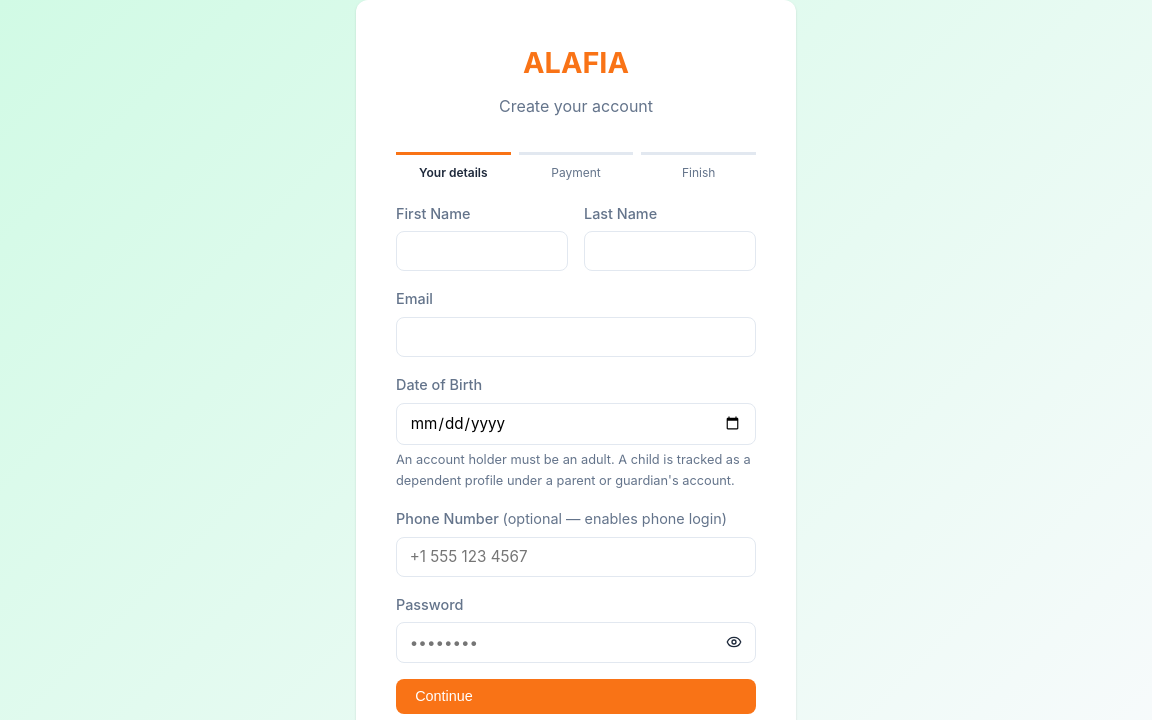
Test: signing up with an address that already has an account › closes on dismiss so the form can be corrected
Type "Ada" into the field with id "su-first" at (482,251), box x1=396 y1=231 x2=568 y2=272
Type "Demo" into the field with id "su-last" at (670,251), box x1=584 y1=231 x2=756 y2=272
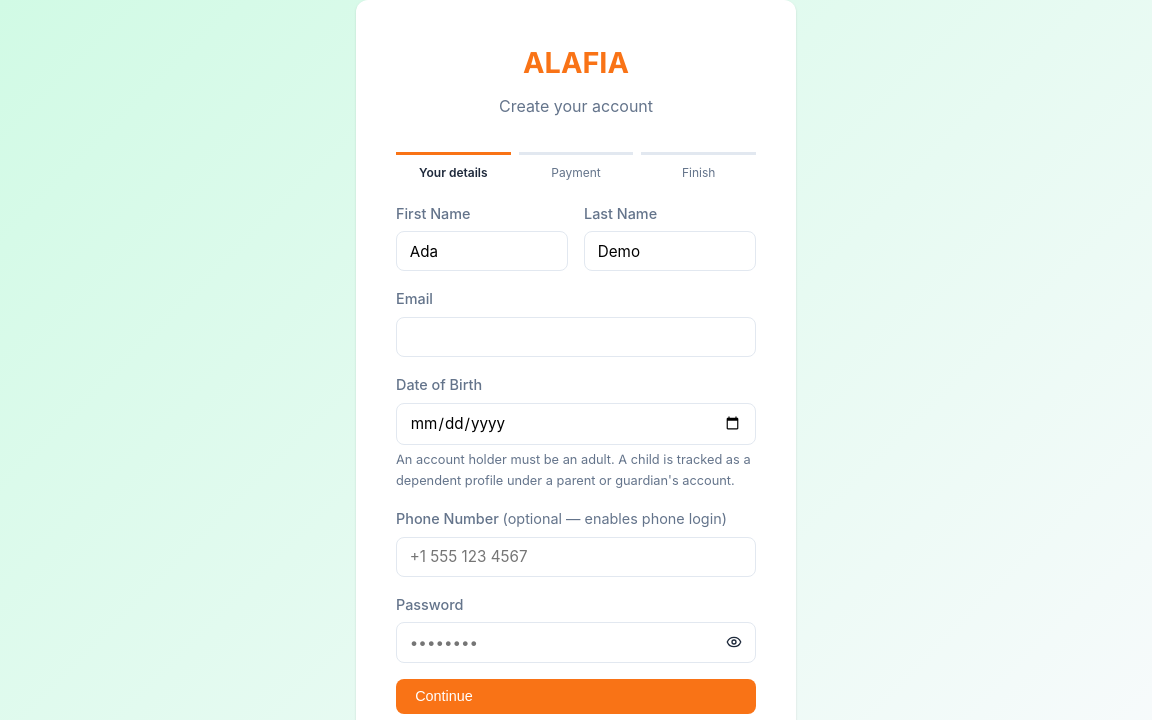
Type "ada@example.com" into the field with id "su-email" at (576,337), box x1=396 y1=317 x2=756 y2=357
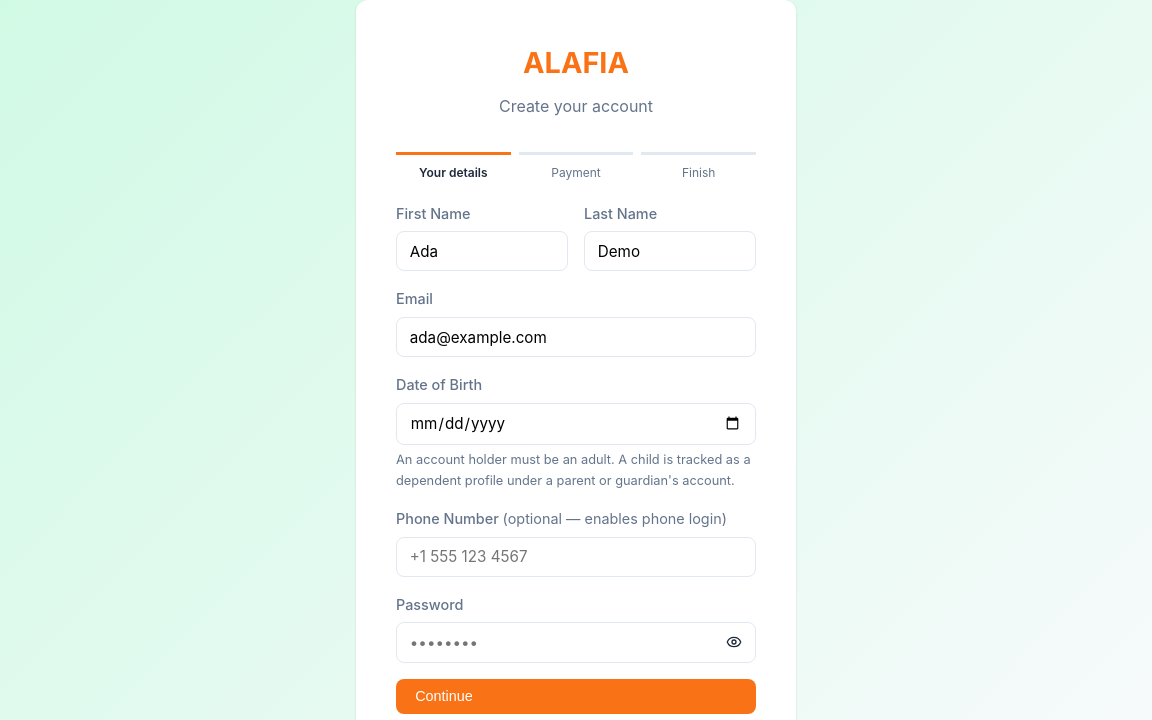
Type "1980-01-01" into the date field with id "su-dob" at (576,424), box x1=396 y1=402 x2=756 y2=445
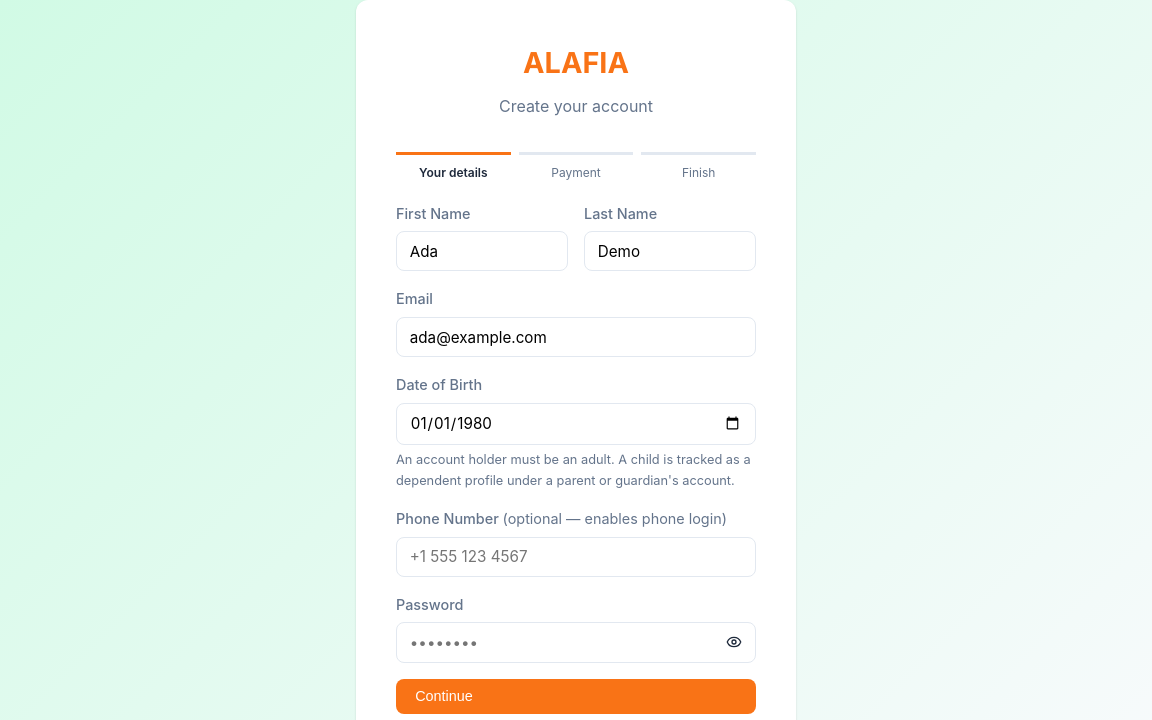
Type "a-long-enough-password" into the password field with id "su-password" at (576,642), box x1=396 y1=622 x2=756 y2=662
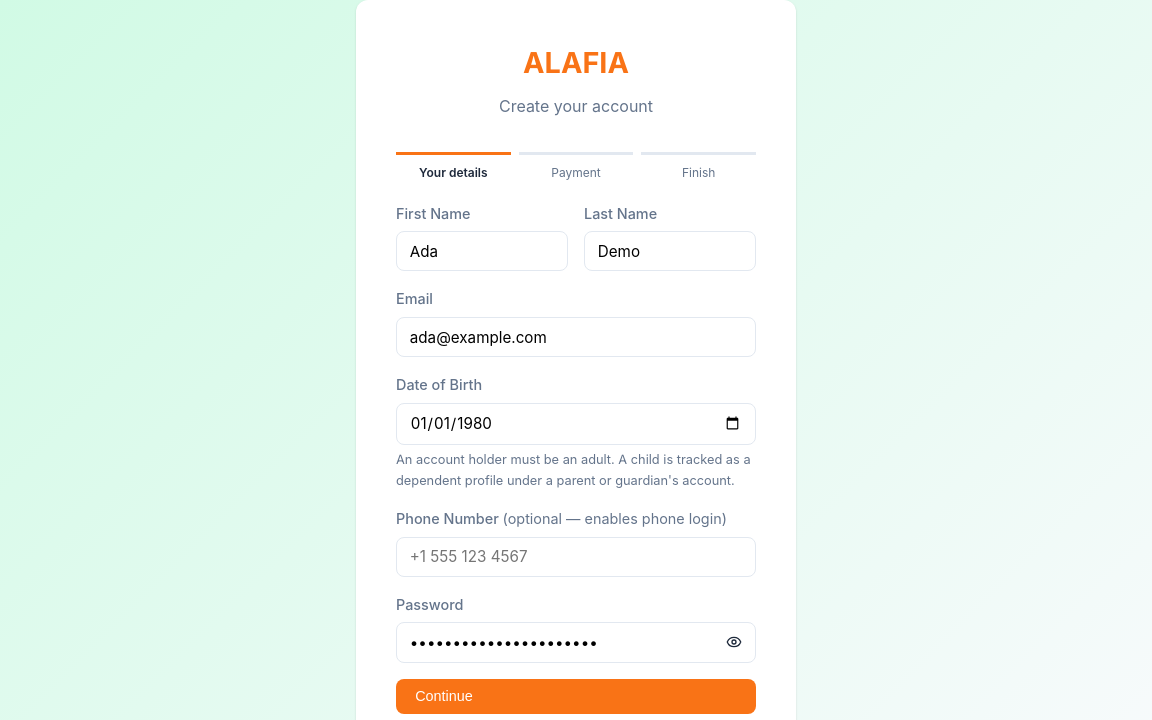
Submit the form, box x1=396 y1=202 x2=756 y2=714
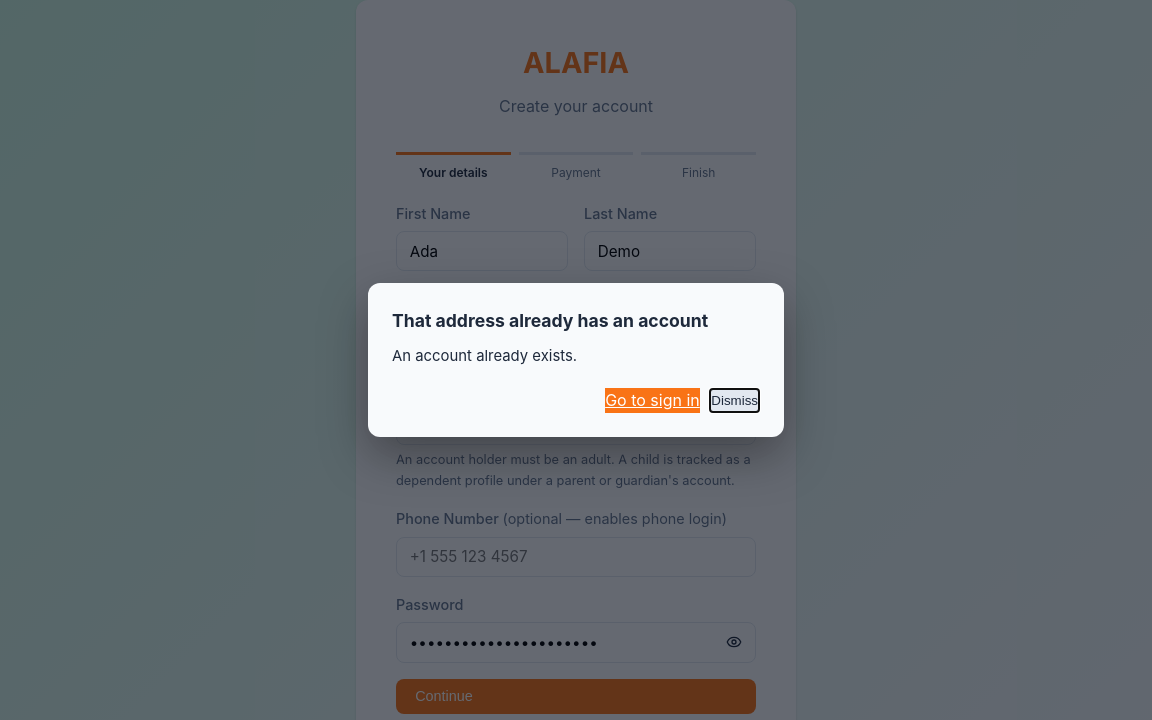
Click the button at (735,400), box x1=709 y1=388 x2=760 y2=413
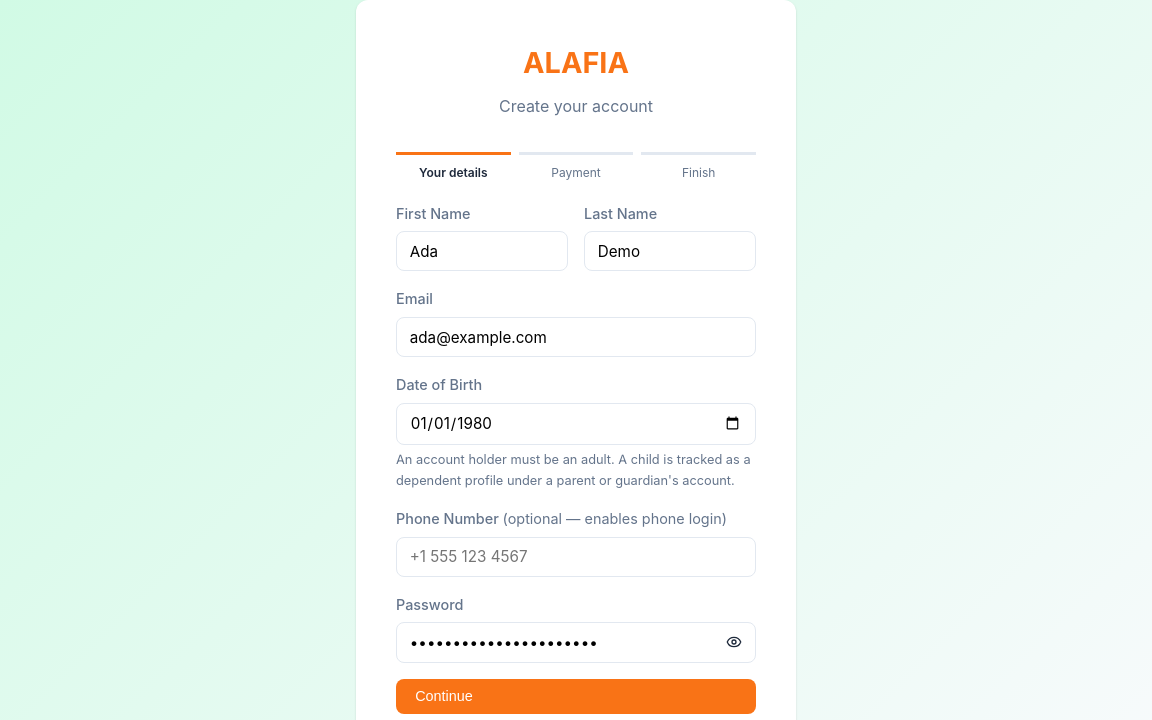
Check: the dialog is gone
